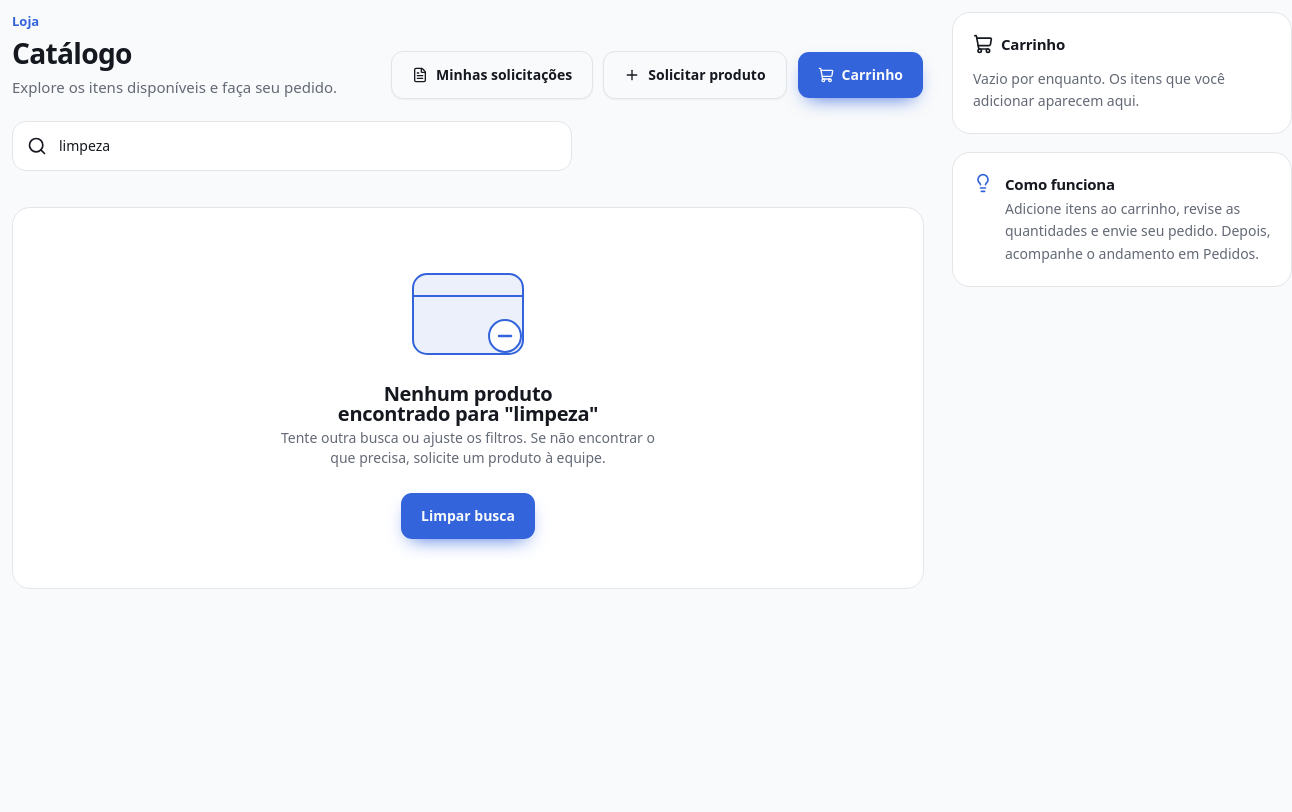
it: PortalCatalogPage search › clears the empty catalog query at /?search=limpeza without showing a creation example
Expected: the text "Ex.: materiais de uso diário para a recepção" is not shown
Click the button "Limpar busca" at (468,516), box [400, 492, 536, 540]
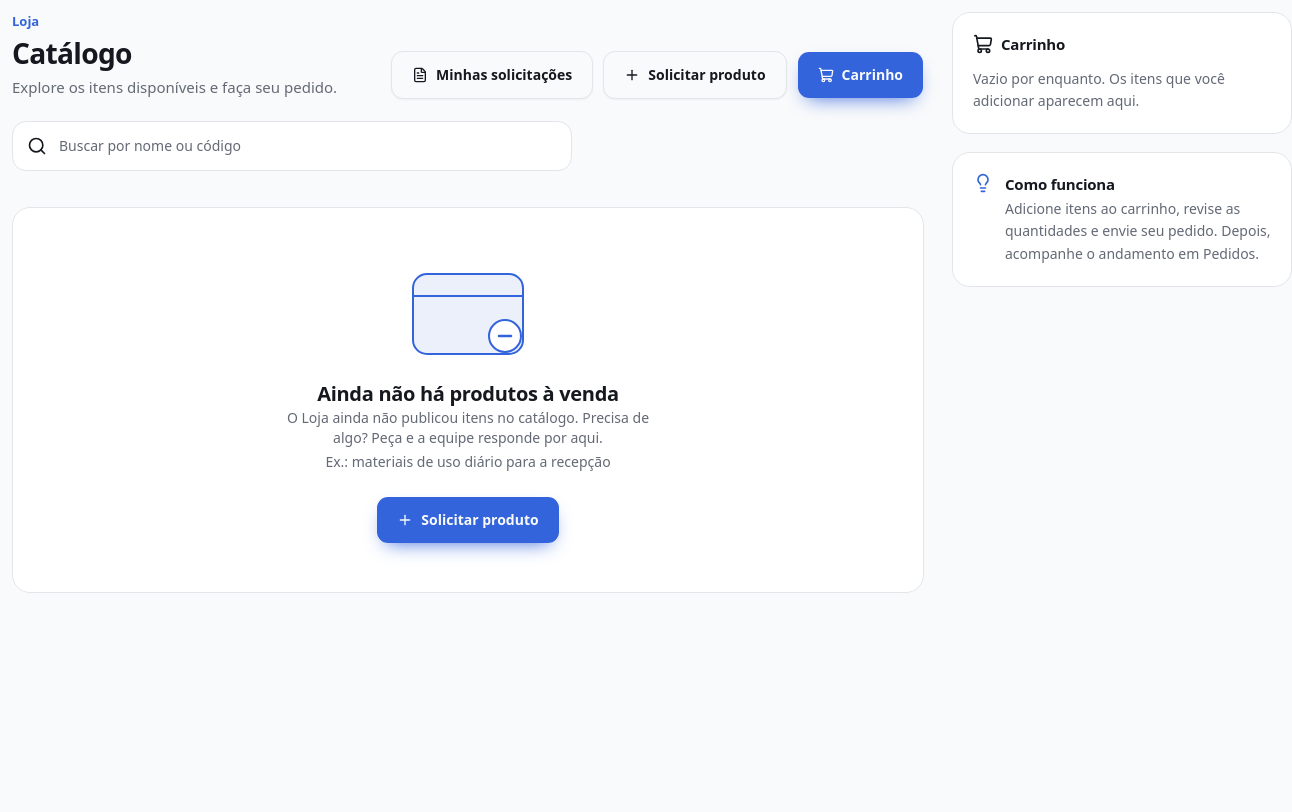
Expected: the heading "Ainda não há produtos à venda" is shown, [317, 380, 619, 407]
Expected: the text "Ex.: materiais de uso diário para a recepção" is shown, [325, 452, 611, 471]
Expected: the field named "Buscar produtos" is empty, [59, 122, 557, 170]
